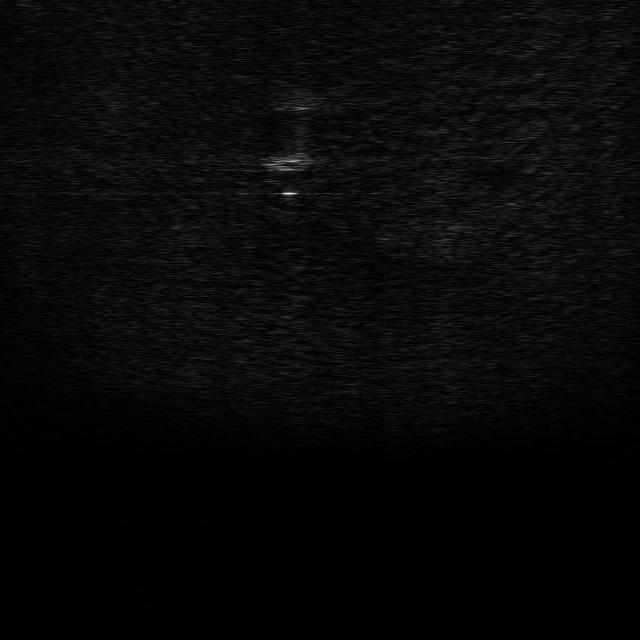plane: (260, 151, 322, 197)
